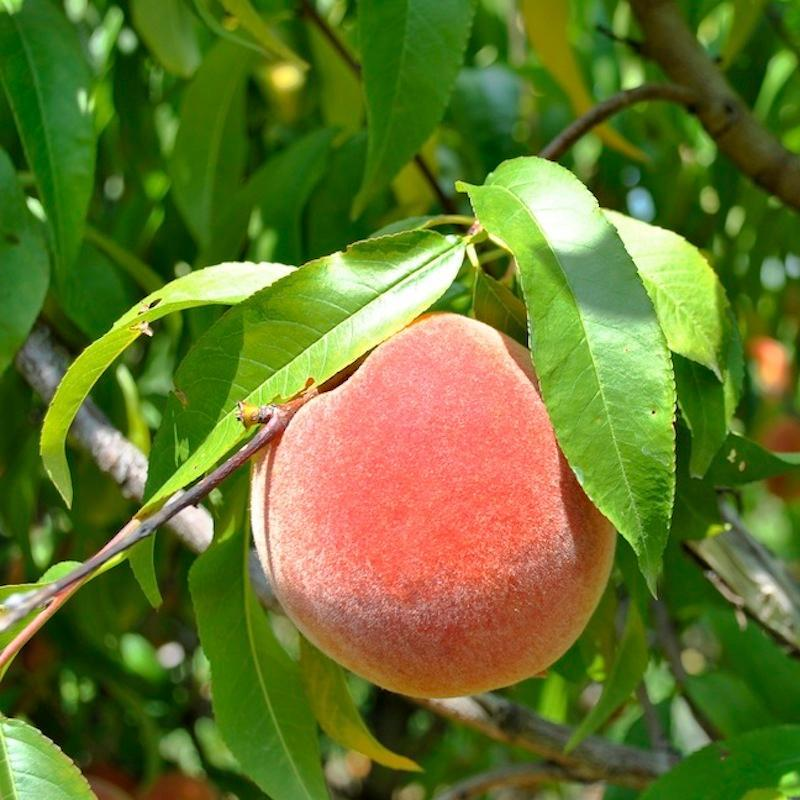Peach leaf: (140, 214, 481, 509), (456, 159, 674, 603), (200, 468, 328, 800), (3, 1, 100, 289), (351, 5, 479, 223)
